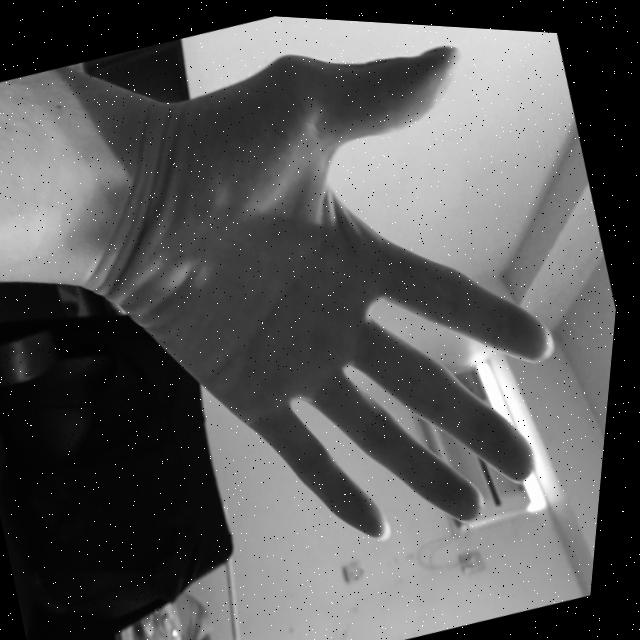hand: (16, 3, 627, 620)
